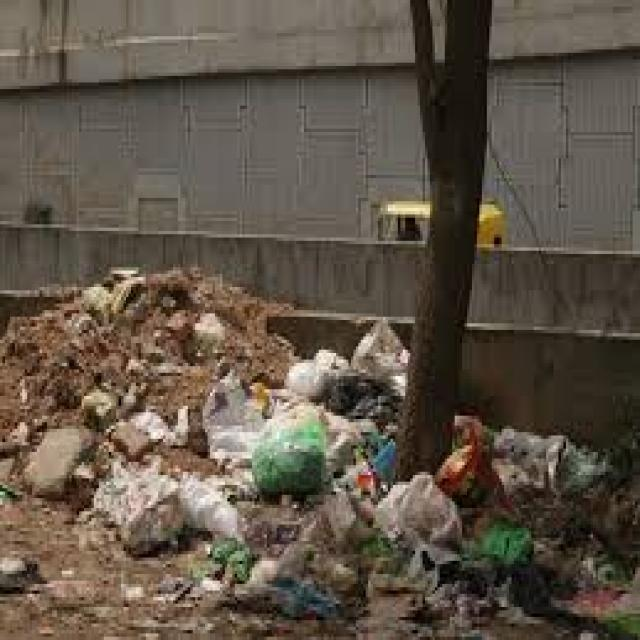garbage: (205, 320, 460, 541), (94, 462, 240, 551)
